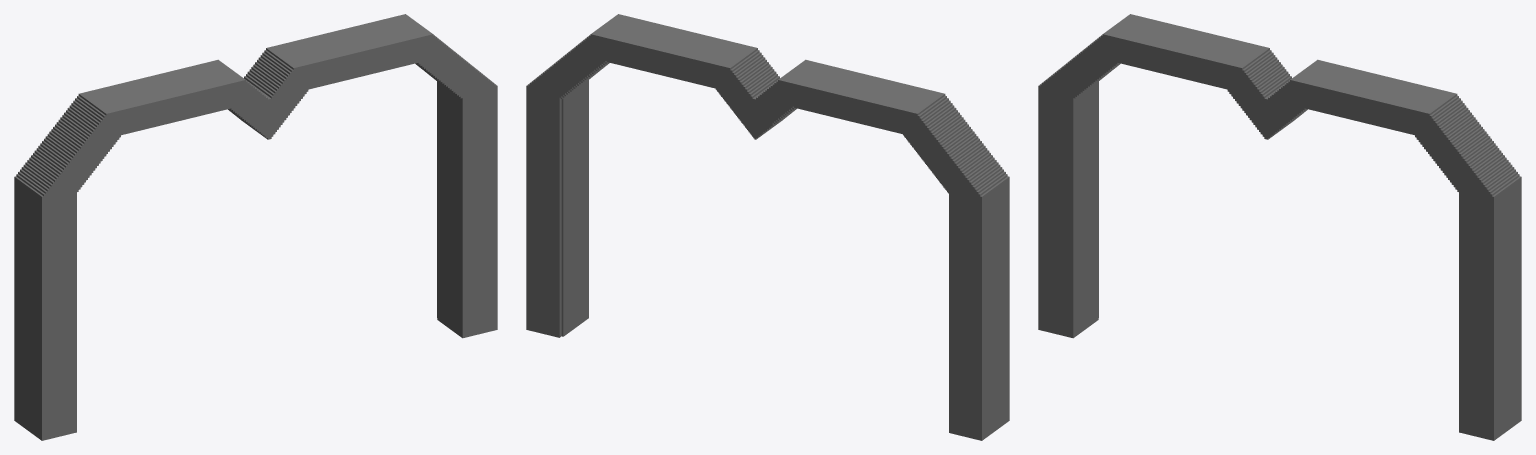
The model's file is Lab-6-Doorway.fbx.
3 views of the same model, side by side, from view 1: azimuth 30°, elevation 25°; view 2: azimuth 150°, elevation 25°; view 3: azimuth 330°, elevation 25° (orthographic).
Parts seen in each view (by area): view 1: Doorway; view 2: Doorway; view 3: Doorway.
Part boxes in pixels (box(x1,y1,x2,y2)): Doorway: box(14, 14, 497, 440); Doorway: box(526, 14, 1009, 440); Doorway: box(1038, 14, 1521, 440).
Bounding box in the file's own units: 248 × 162 × 26.
